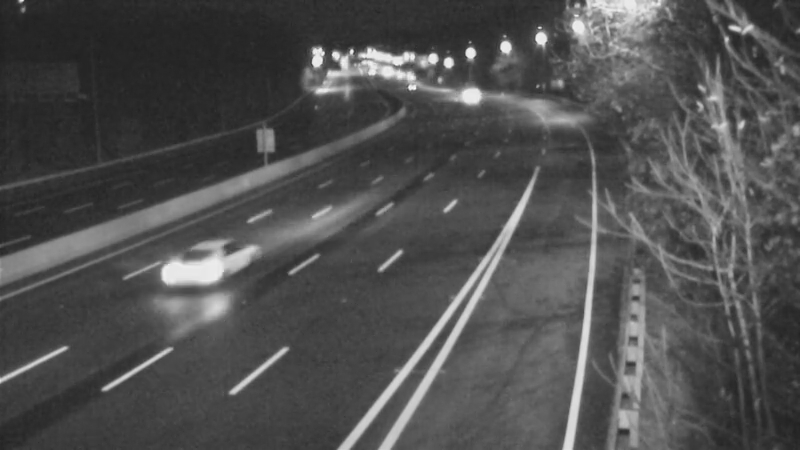vehicle: (153, 222, 233, 302), (448, 72, 498, 122)
